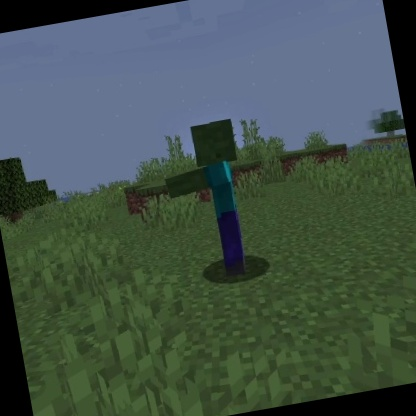zombie: (151, 114, 264, 289)
